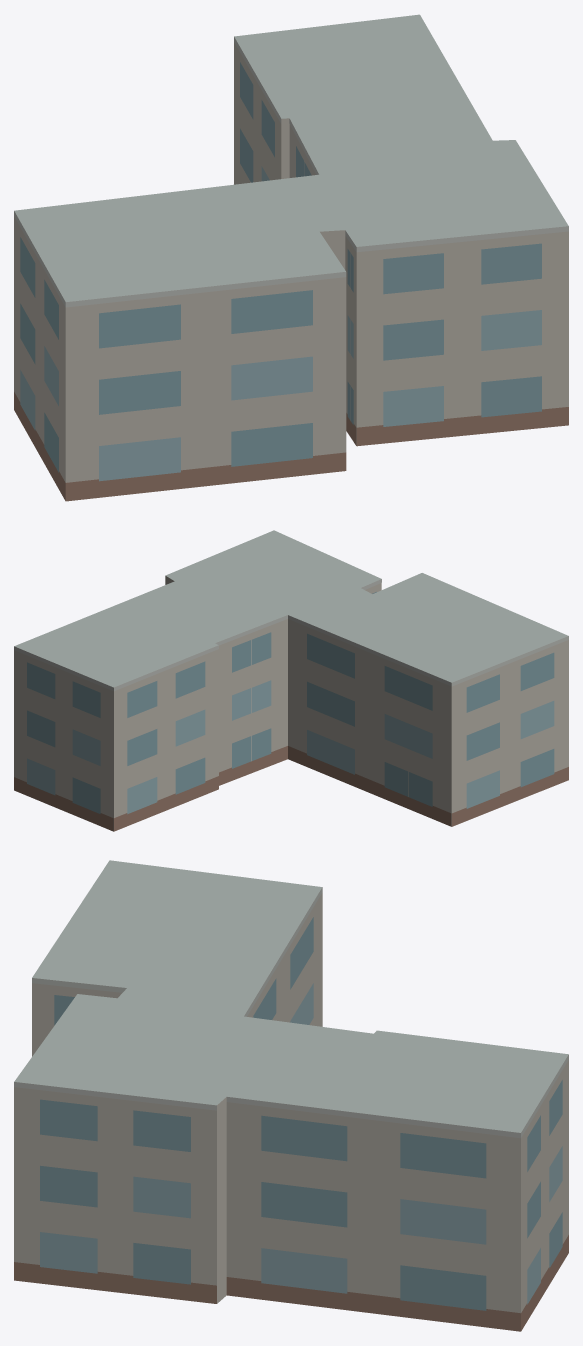
File: survey-upis-32804155.glb
The picture shows the model from 3 angles, top to bottom: view 1: azimuth 30°, elevation 25°; view 2: azimuth 150°, elevation 25°; view 3: azimuth 270°, elevation 25°; orthographic projection. The views are drawn at different scales.
Visible parts, largest first — view 1: survey-upis-32804155.tmp; view 2: survey-upis-32804155.tmp; view 3: survey-upis-32804155.tmp.
Part boxes in pixels (box(x1,y1,x2,y2)): survey-upis-32804155.tmp: box(14, 14, 568, 501); survey-upis-32804155.tmp: box(14, 530, 568, 831); survey-upis-32804155.tmp: box(14, 860, 568, 1331).
Size of the model in its own units: 26.95 by 9.15 by 23.17.
